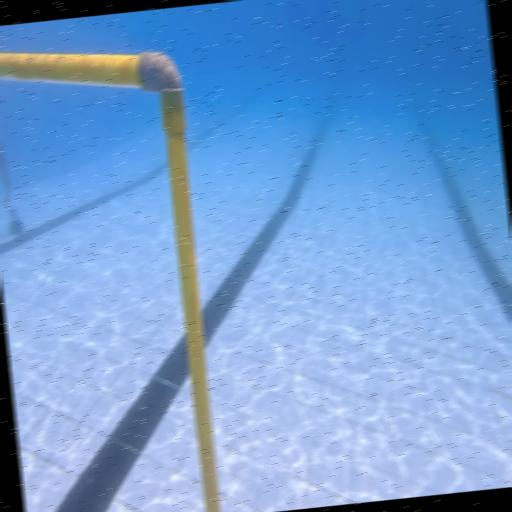gate: (0, 31, 227, 512)
